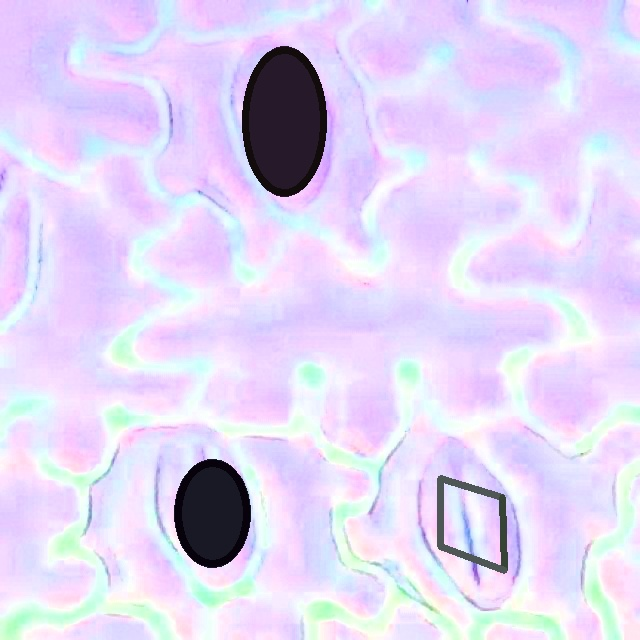close: (243, 46, 325, 196)
open: (173, 459, 250, 567), (437, 475, 505, 573)
